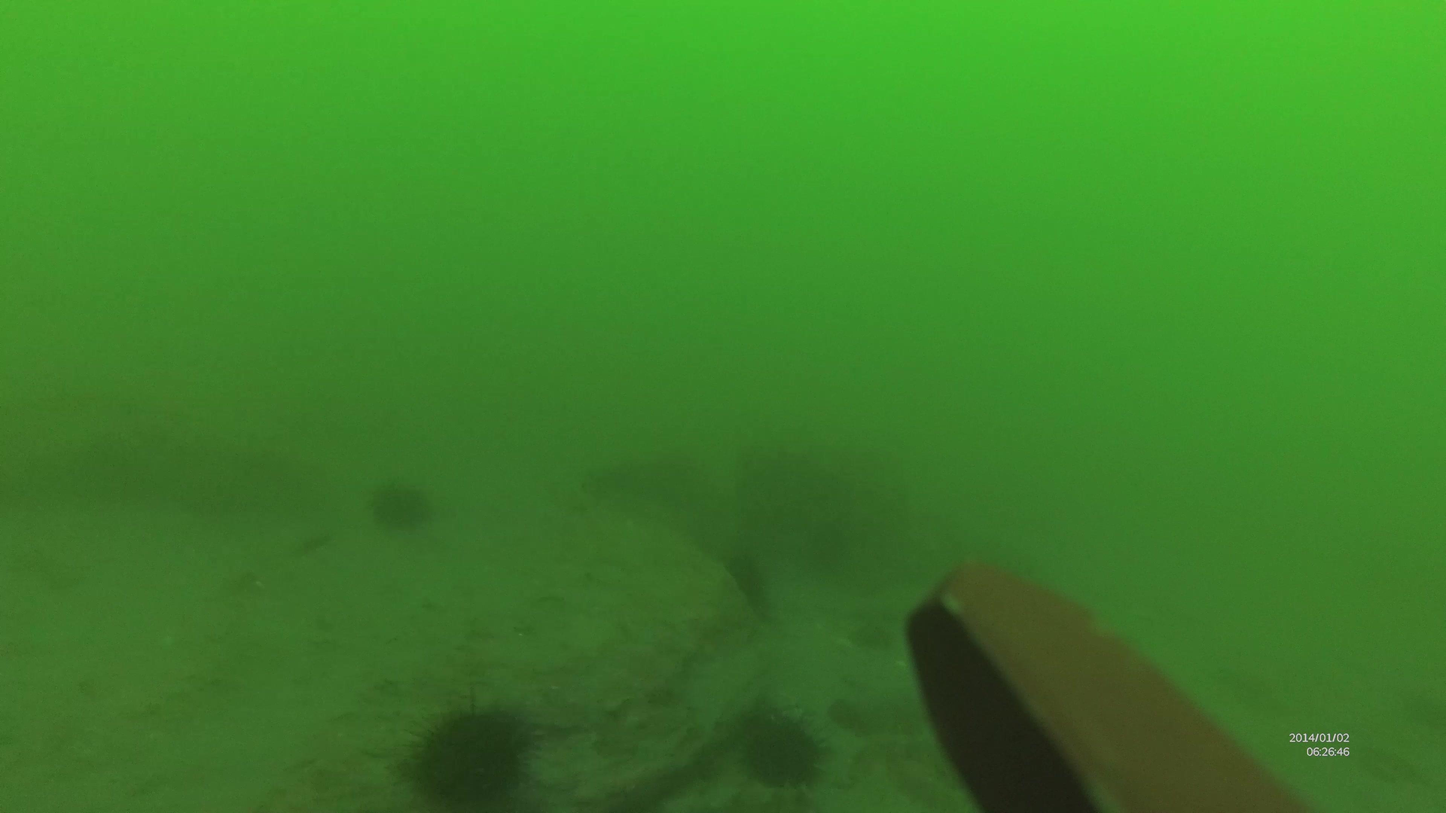starfish: (399, 703, 535, 805), (744, 702, 829, 792), (374, 483, 433, 533)
